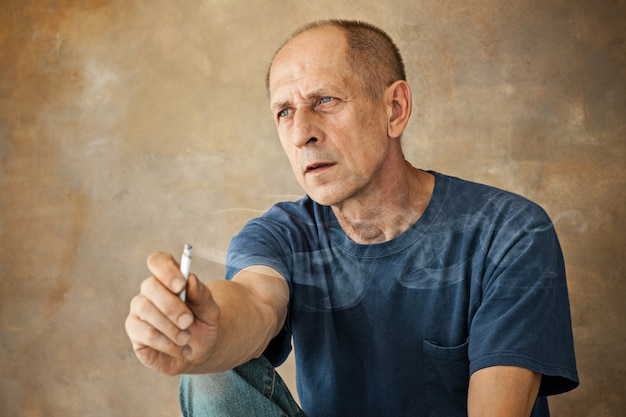cigarette: (177, 242, 192, 306)
